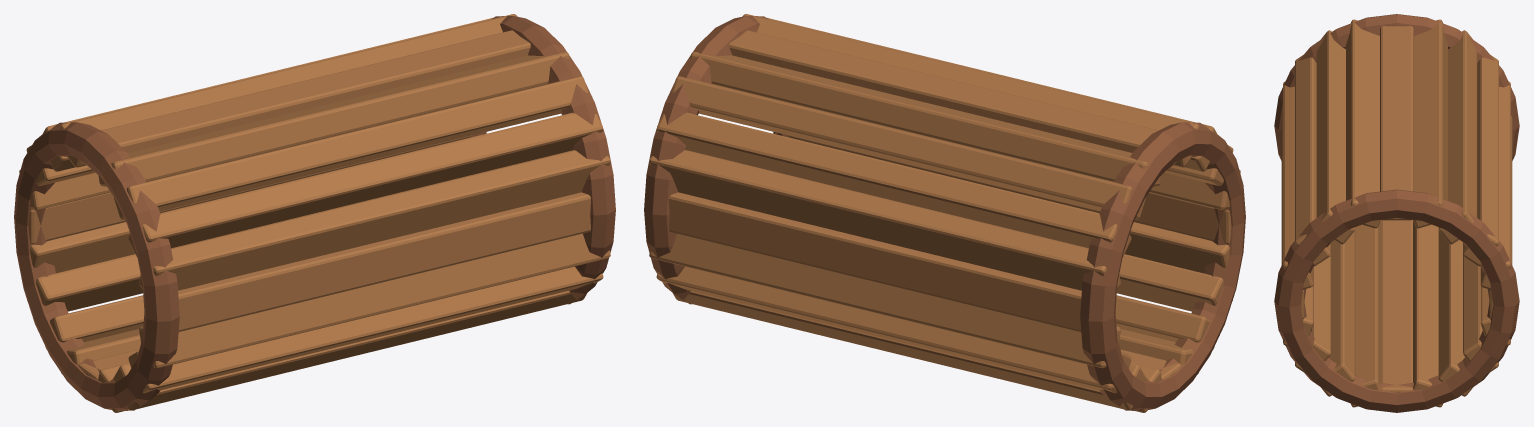
Rendered from Broken_Pipe_Barren.glb.
3 renders of one model, left to right at view 1: azimuth 30°, elevation 25°; view 2: azimuth 150°, elevation 25°; view 3: azimuth 270°, elevation 25°, orthographic. The views are drawn at different scales.
Visible parts, largest first — view 1: Structure; view 2: Structure; view 3: Structure.
Part boxes in pixels (x1=…): Structure: x1=14, y1=14, x2=615, y2=412; Structure: x1=644, y1=14, x2=1245, y2=412; Structure: x1=1274, y1=14, x2=1519, y2=412.
Size of the model in its own units: 2.36 by 1.3 by 1.3.
